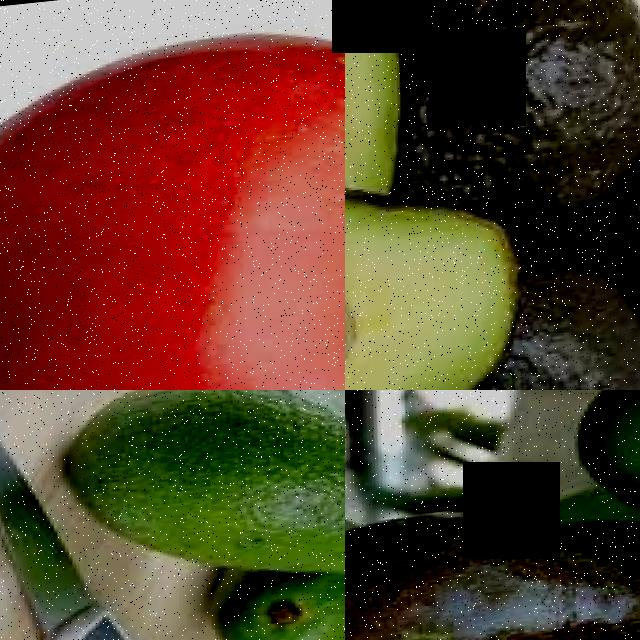apple: (0, 0, 345, 390)
avocado: (38, 390, 345, 616), (379, 0, 640, 243), (345, 153, 562, 390), (345, 482, 640, 640), (504, 223, 640, 390), (209, 544, 345, 640), (347, 0, 577, 29)
